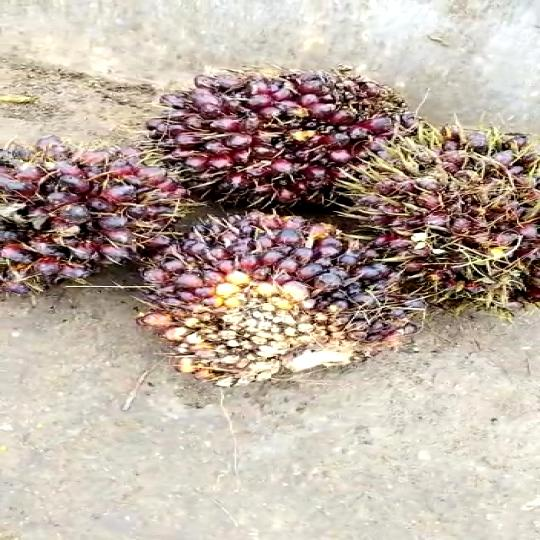kurang masak: (107, 208, 418, 436), (154, 60, 444, 231), (336, 96, 540, 302), (0, 130, 186, 327)
